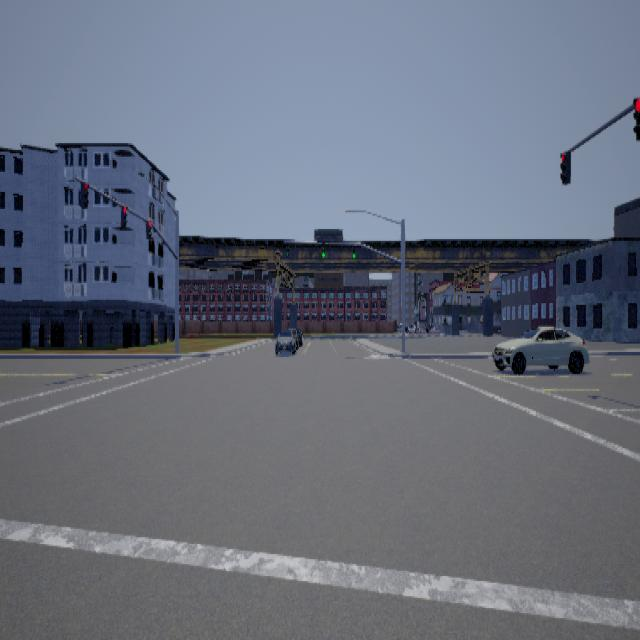green_light: (351, 242, 354, 258), (321, 241, 324, 256), (285, 241, 288, 256)
red_light: (559, 150, 570, 183), (632, 96, 639, 140), (79, 180, 88, 207), (120, 203, 127, 226), (145, 219, 151, 237)
vehicle: (491, 325, 589, 374), (274, 326, 302, 354)
